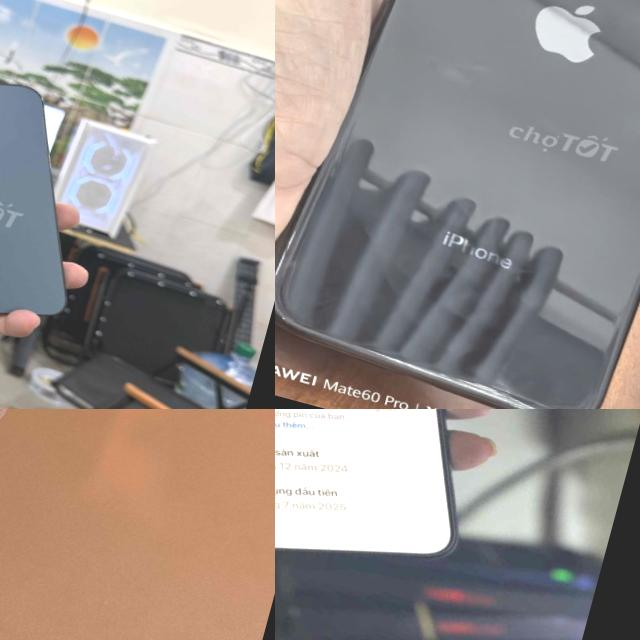gen_12_13: (0, 53, 120, 345)
gen_15: (0, 409, 72, 611)
gen_16: (275, 409, 453, 556)
gen_x_xs: (275, 0, 640, 409)
